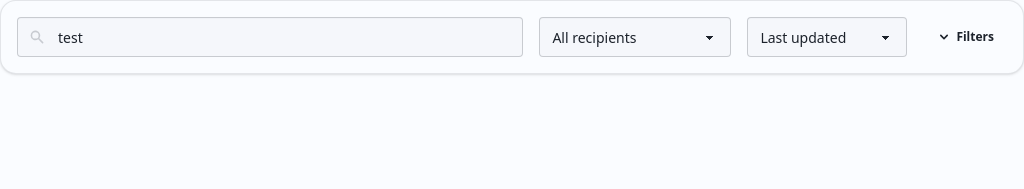
FilterPanel Component › Clear all filters › should show clear all button when filters are active
Open advanced filters
Click the button "Filters".
click(965, 37)  # box [923,21,1007,53]
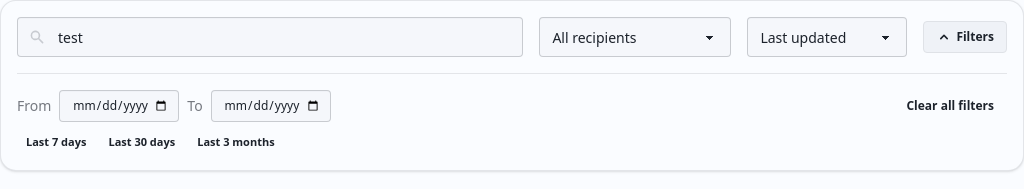
Check: the button "Clear all filters" is shown, box [893,90,1007,122]
